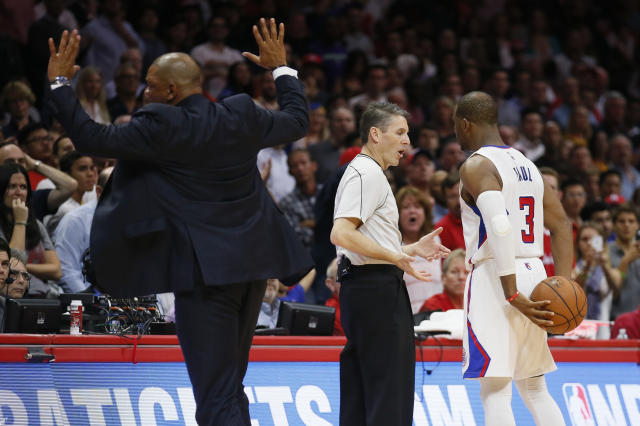b_ball: (522, 268, 597, 344)
face: (352, 97, 422, 165)
player: (438, 88, 603, 426)
referee: (323, 92, 446, 426)
